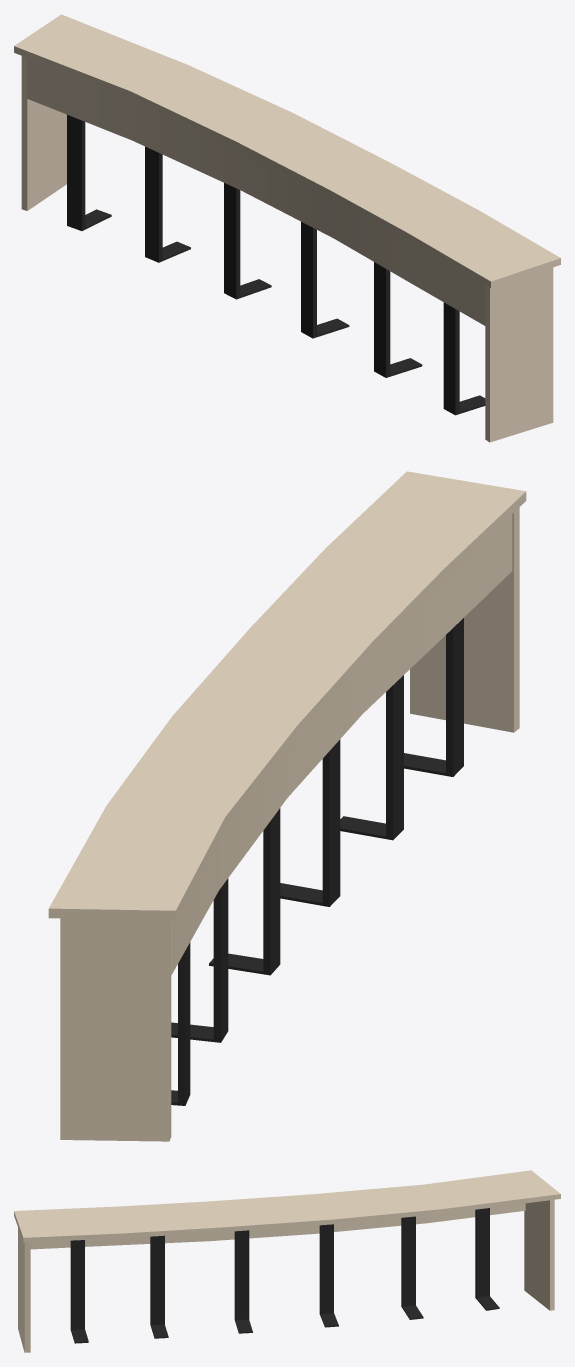
Rendered from AmphiPetitBanc6.fbx.
The picture shows the model from 3 angles, top to bottom: view 1: azimuth 30°, elevation 25°; view 2: azimuth 150°, elevation 25°; view 3: azimuth 270°, elevation 25°; orthographic projection. The views are drawn at different scales.
Parts seen in each view (by area): view 1: polySurface12, polySurface17, polySurface16, polySurface15, polySurface13, polySurface18, polySurface14; view 2: polySurface12, polySurface14, polySurface13, polySurface15, polySurface18, polySurface16, polySurface17; view 3: polySurface12, polySurface14, polySurface16, polySurface18, polySurface15, polySurface13, polySurface17.
Boxes of the visible parts, x1=… form: polySurface12: x1=14, y1=14, x2=560, y2=442; polySurface17: x1=67, y1=114, x2=111, y2=230; polySurface16: x1=145, y1=146, x2=190, y2=262; polySurface15: x1=224, y1=183, x2=271, y2=299; polySurface13: x1=374, y1=262, x2=422, y2=377; polySurface18: x1=443, y1=302, x2=485, y2=415; polySurface14: x1=301, y1=221, x2=349, y2=338; polySurface12: x1=48, y1=471, x2=526, y2=1141; polySurface14: x1=280, y1=739, x2=340, y2=906; polySurface13: x1=340, y1=675, x2=403, y2=840; polySurface15: x1=209, y1=808, x2=280, y2=975; polySurface18: x1=404, y1=618, x2=463, y2=776; polySurface16: x1=171, y1=878, x2=228, y2=1042; polySurface17: x1=171, y1=942, x2=190, y2=1105; polySurface12: x1=14, y1=1170, x2=560, y2=1352; polySurface14: x1=234, y1=1230, x2=252, y2=1333; polySurface16: x1=401, y1=1216, x2=423, y2=1319; polySurface18: x1=70, y1=1240, x2=88, y2=1343; polySurface15: x1=319, y1=1224, x2=338, y2=1327; polySurface13: x1=150, y1=1235, x2=168, y2=1338; polySurface17: x1=475, y1=1208, x2=499, y2=1310.
Size of the model in its own units: 28.02 by 22.71 by 95.88.
